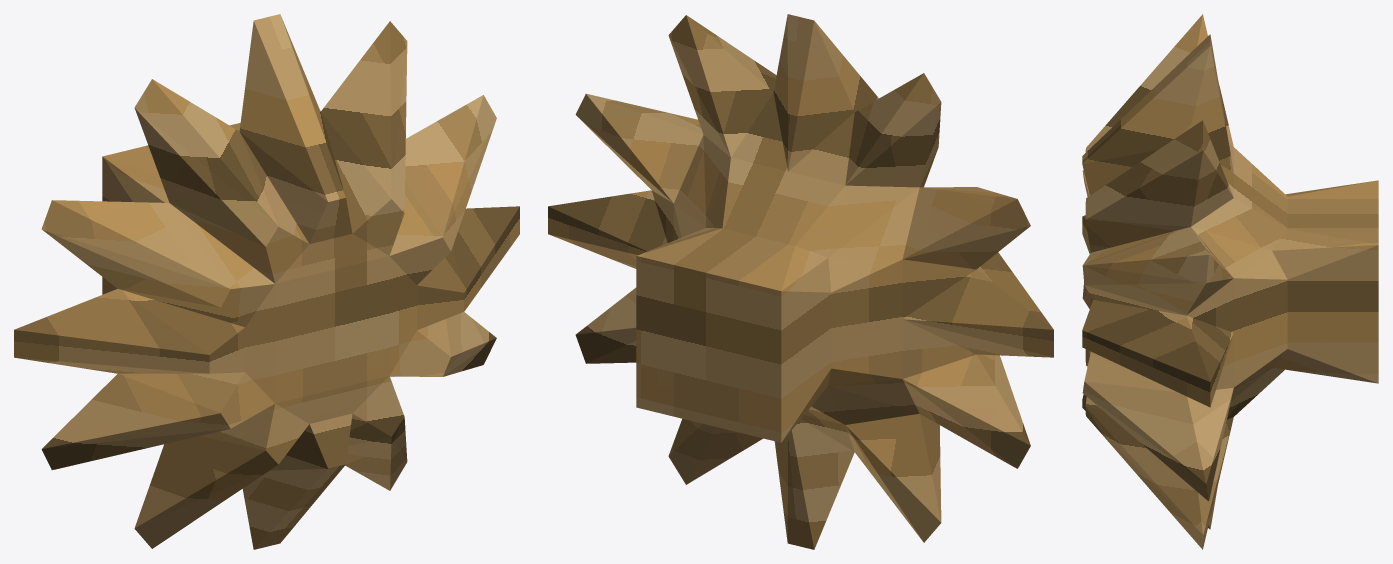
The model's file is distributor_gearbox.obj.
3 views of the same model, side by side, from view 1: azimuth 30°, elevation 25°; view 2: azimuth 150°, elevation 25°; view 3: azimuth 270°, elevation 25° (orthographic). The views are drawn at different scales.
Visible parts, largest first — view 1: Cube; view 2: Cube; view 3: Cube.
Boxes of the visible parts, x1,y1,x2,y2 form: Cube: [14, 14, 519, 549]; Cube: [548, 14, 1053, 549]; Cube: [1082, 14, 1378, 549].
Bounding box in the file's own units: 0.6388 × 0.6388 × 0.3546.
